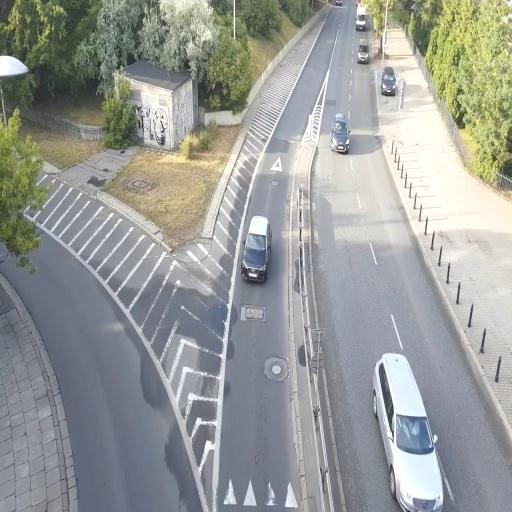vehicle: (372, 352, 444, 512), (241, 215, 270, 283), (331, 115, 350, 152), (380, 67, 398, 96)
